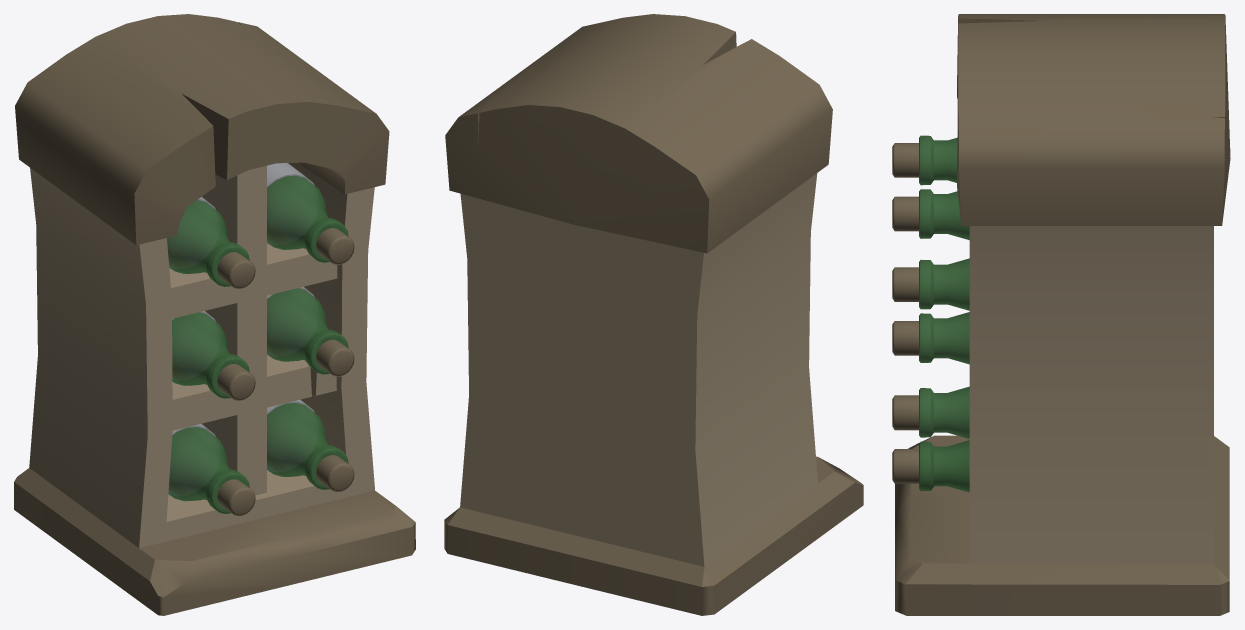
Rendered from SM_WineTower.fbx.
The picture shows the model from 3 angles, left to right: view 1: azimuth 30°, elevation 25°; view 2: azimuth 150°, elevation 25°; view 3: azimuth 270°, elevation 25°; orthographic projection. The views are drawn at different scales.
Parts seen in each view (by area): view 1: polySurface80; view 2: polySurface80; view 3: polySurface80.
Boxes of the visible parts, <box> form: polySurface80: <box>14,14,415,615</box>; polySurface80: <box>444,14,863,615</box>; polySurface80: <box>892,14,1230,615</box>.
Size of the model in its own units: 100 by 167 by 101.
